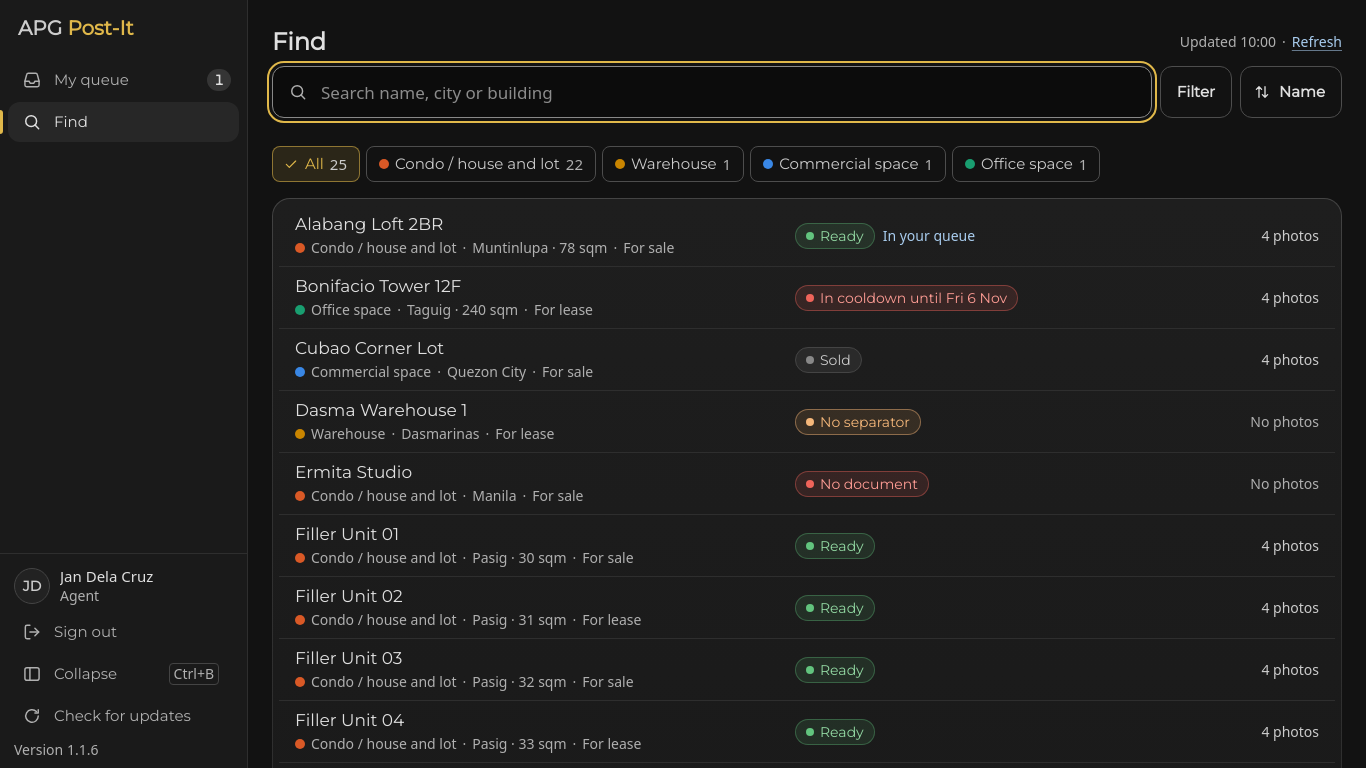
Scenario: Find, narrowing and ordering › narrows by category, counting what each would show with the search
This screenshot has width=1366, height=768.
Expected: the text "Alabang Loft 2BR" is shown, [295,214,443,234]
Expected: the text "Ready" is shown, [795,222,875,248]
Click the button "Warehouse 1": (673, 164) [602,146,744,182]
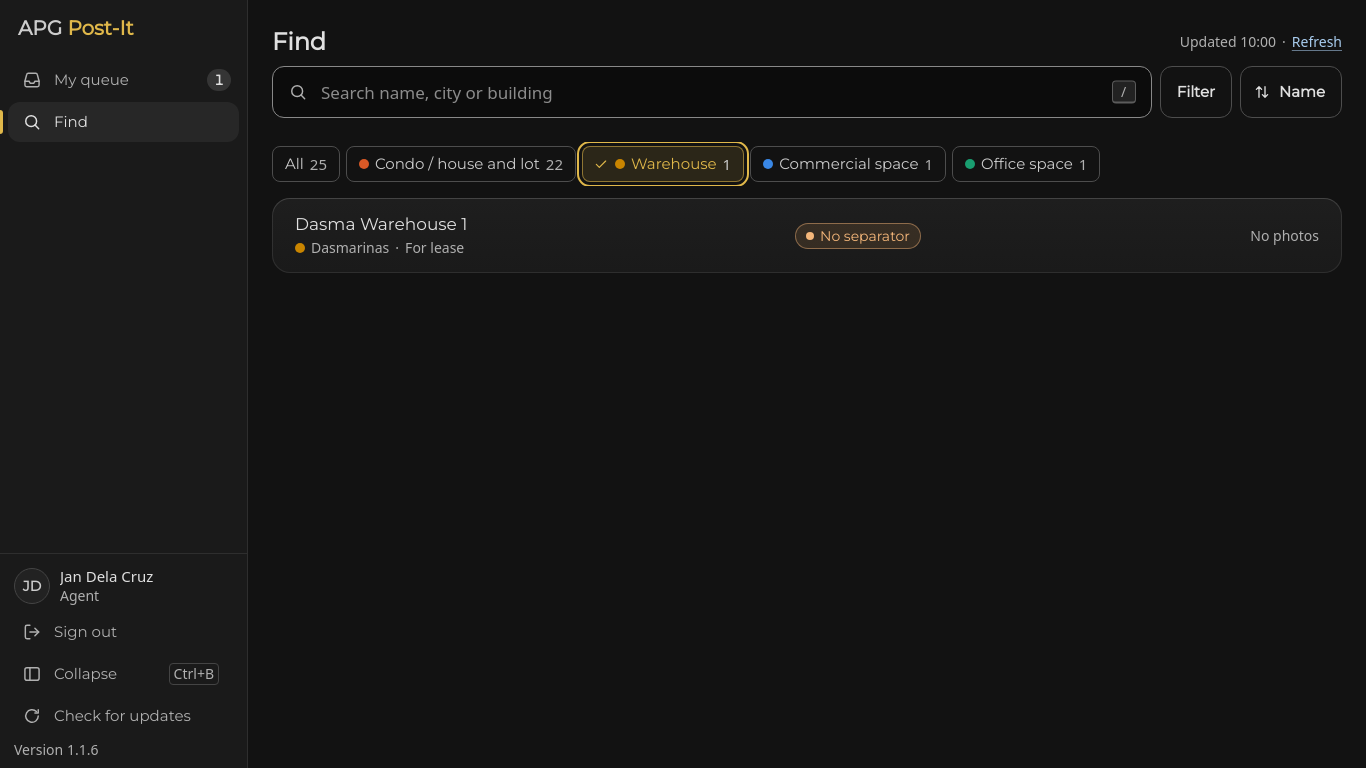
Expected: the element with class "find-row__cat--dot" is shown, [295,243,305,253]
Click the button "All 25": (306, 164) [272,146,340,182]
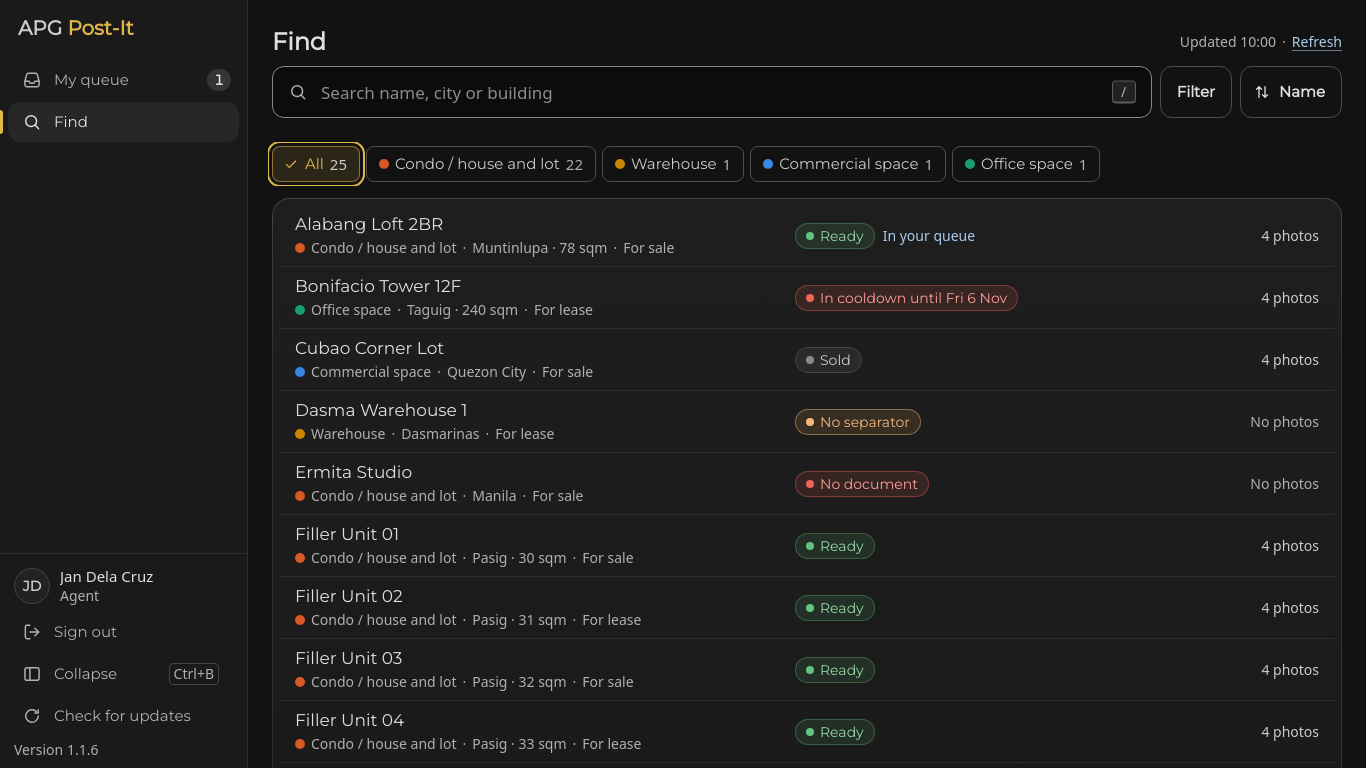
In the search field named "Search listings": (712, 92) [272,66,1152,118], type "pasig"
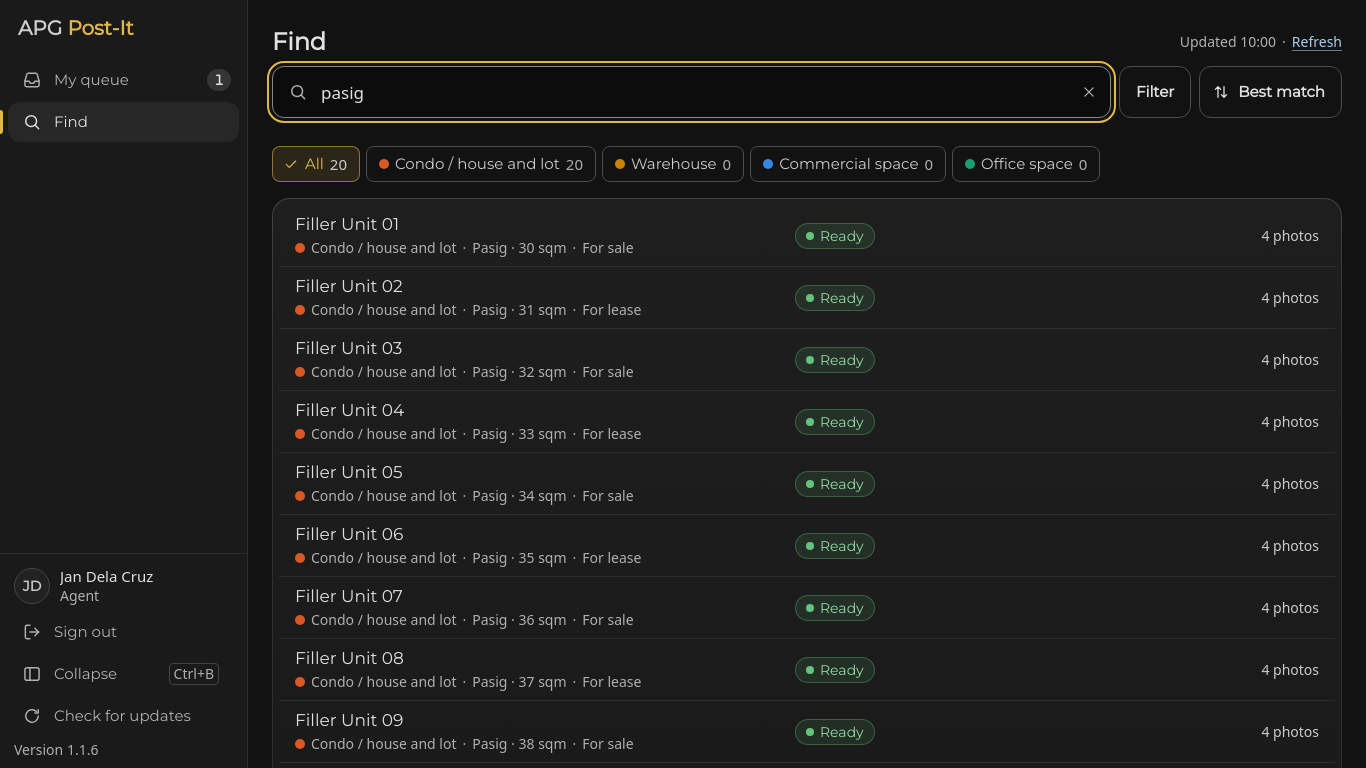
Expected: the button "All 20" is shown, [272,146,360,182]
Expected: the button "Warehouse 0" is shown, [602,146,744,182]
